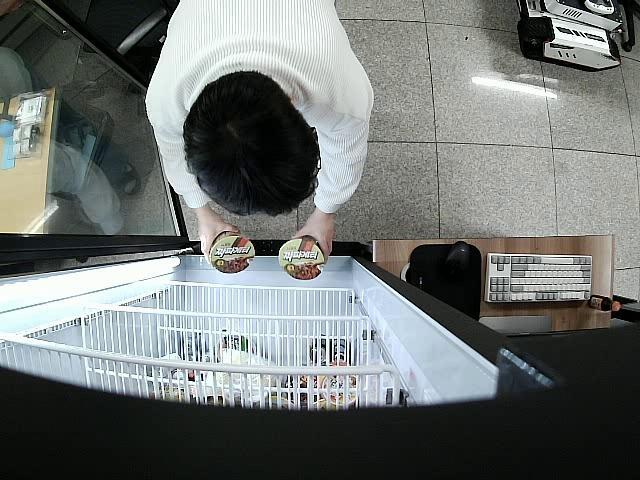03_chapagetti_L: (277, 236, 325, 283), (208, 230, 254, 276)
